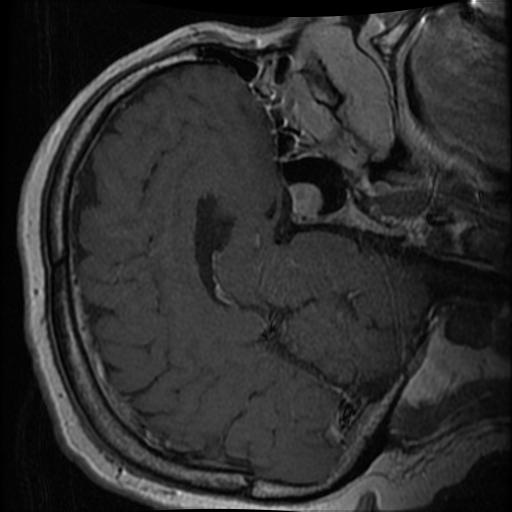pituitary tumour: (288, 181, 322, 224)
